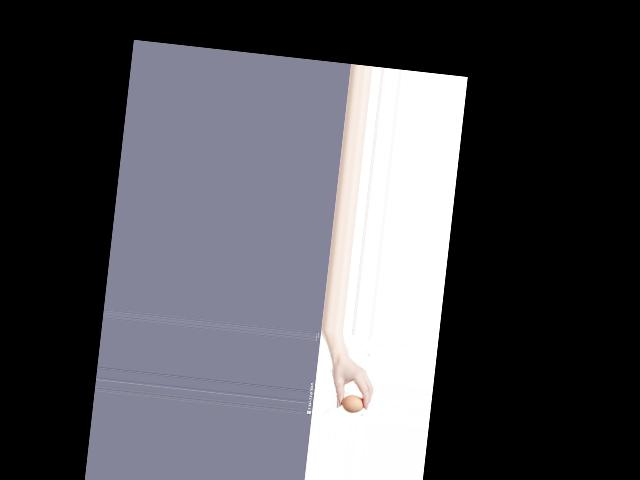egg: (340, 393, 364, 413)
